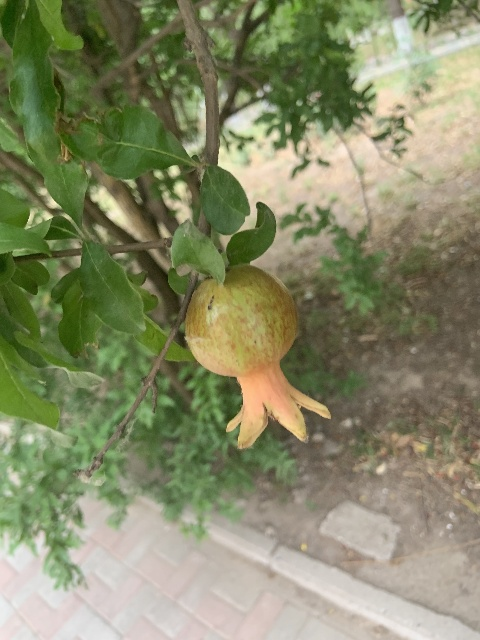early-fruit: (184, 265, 331, 450)
